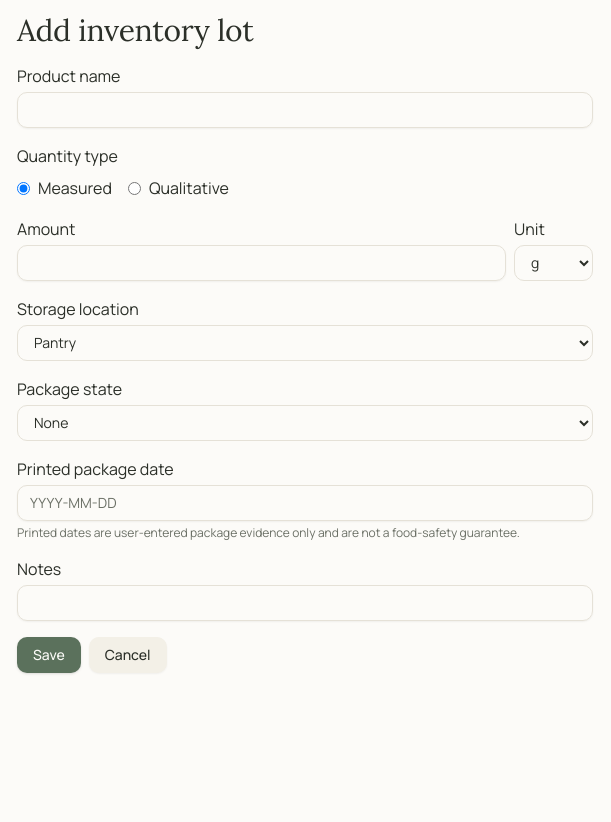
Scenario: ProductionInventoryForm › maps customLocation field errors from the backend
Type "X" into the field with test id "inventory-product-name". click: (305, 110)
box: top-left (17, 92), bottom-right (593, 128)
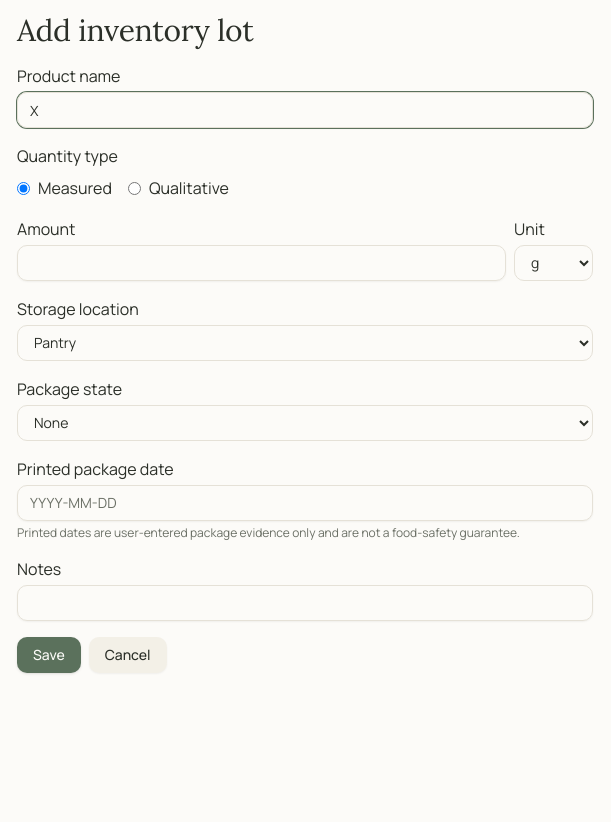
Type "1" into the field with test id "inventory-amount". click: (262, 262)
box: top-left (17, 244), bottom-right (506, 280)
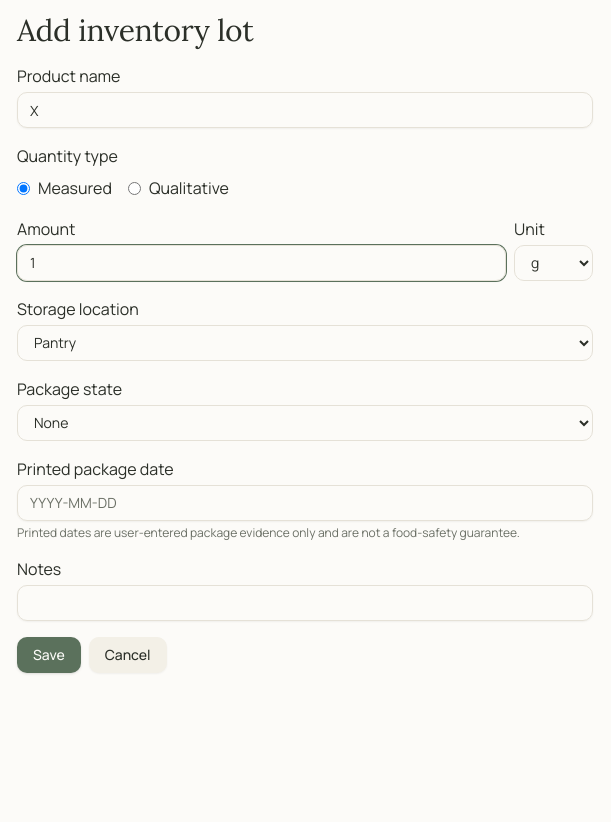
Select "Other" in the dropdown with test id "inventory-location". click: (305, 342)
box: top-left (17, 324), bottom-right (593, 360)
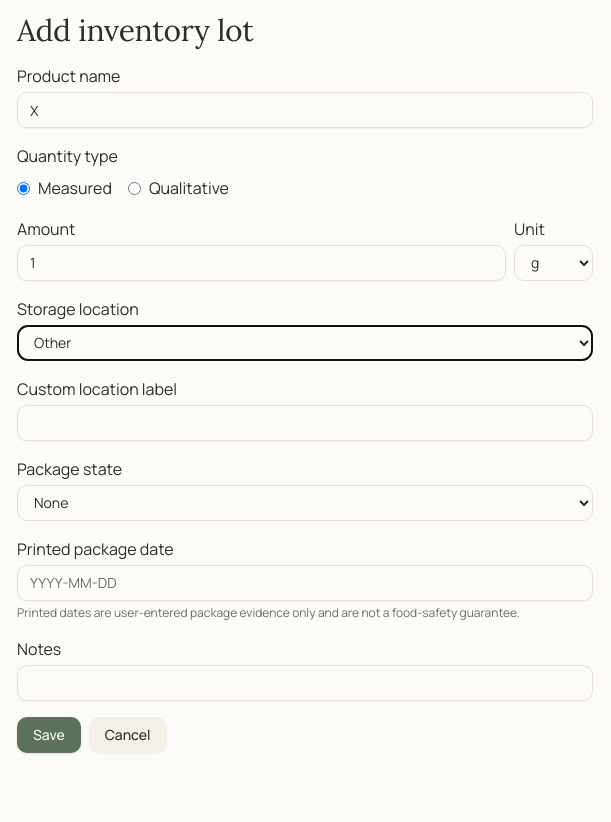
Type "bad" into the field with test id "inventory-custom-location". click: (305, 422)
box: top-left (17, 404), bottom-right (593, 440)
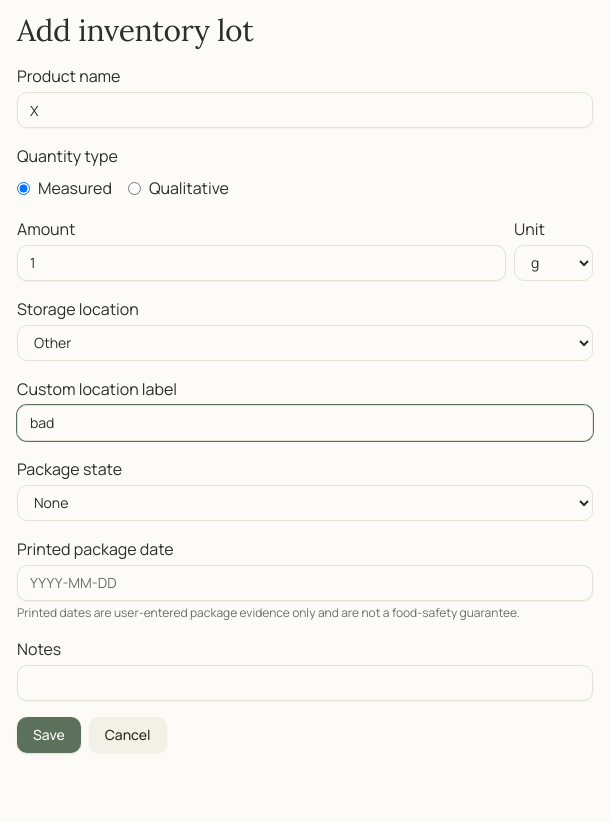
Click the button with test id "inventory-save". click: (49, 734)
box: top-left (17, 716), bottom-right (81, 752)
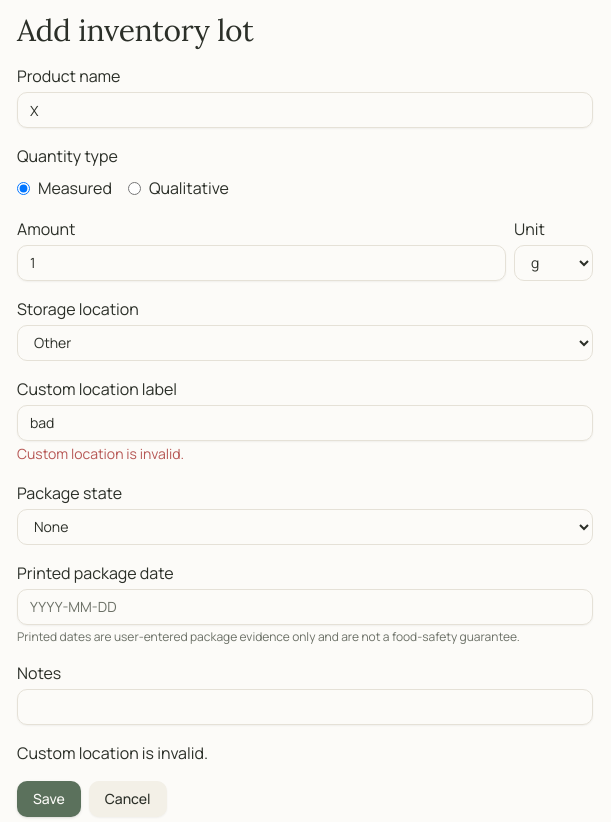
Result: the message with test id "inventory-form-error" shows "Custom location is invalid" at top-left (17, 742), bottom-right (208, 764)
